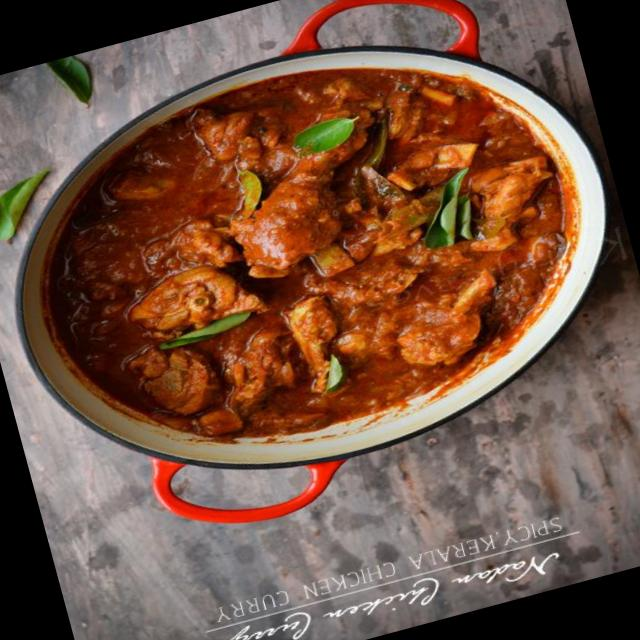chicken: (0, 13, 607, 516)
